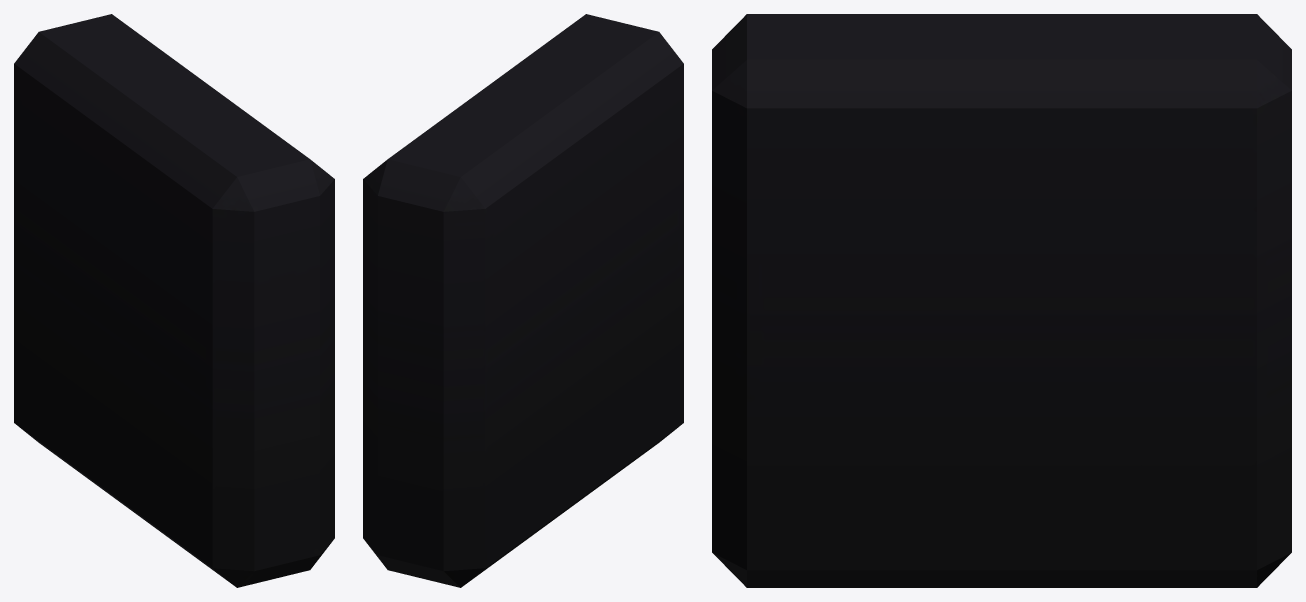
The model's file is Base 1B Dual Turret Adapter.glb.
The picture shows the model from 3 angles, left to right: view 1: azimuth 30°, elevation 25°; view 2: azimuth 150°, elevation 25°; view 3: azimuth 270°, elevation 25°; orthographic projection. The views are drawn at different scales.
Parts seen in each view (by area): view 1: Base_1B_Dual_Turret_Adapter; view 2: Base_1B_Dual_Turret_Adapter; view 3: Base_1B_Dual_Turret_Adapter.
Part boxes in pixels (x1,y1,x2,y2): Base_1B_Dual_Turret_Adapter: (14,14,334,587); Base_1B_Dual_Turret_Adapter: (363,14,683,587); Base_1B_Dual_Turret_Adapter: (712,14,1291,587).
Size of the model in its own units: 0.1511 by 0.4848 by 0.4824.
Materials: 1 (1 with a texture image).
